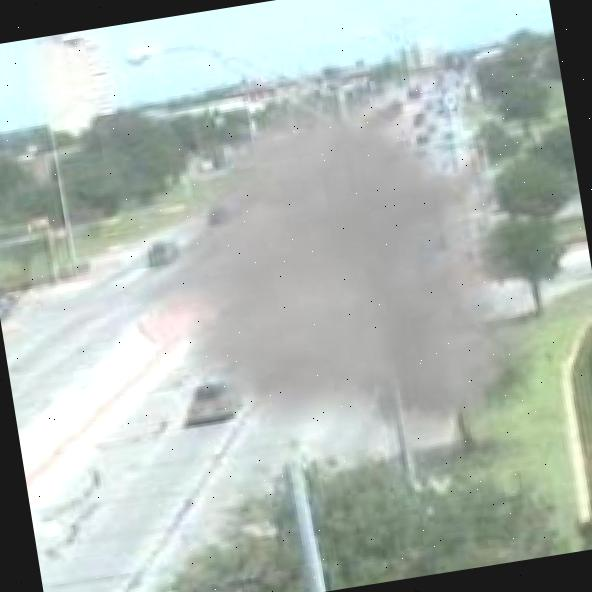smoke: (94, 55, 581, 533)
